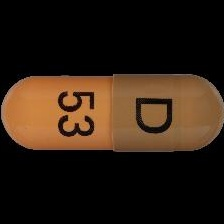43063-725: (0, 0, 224, 224)
